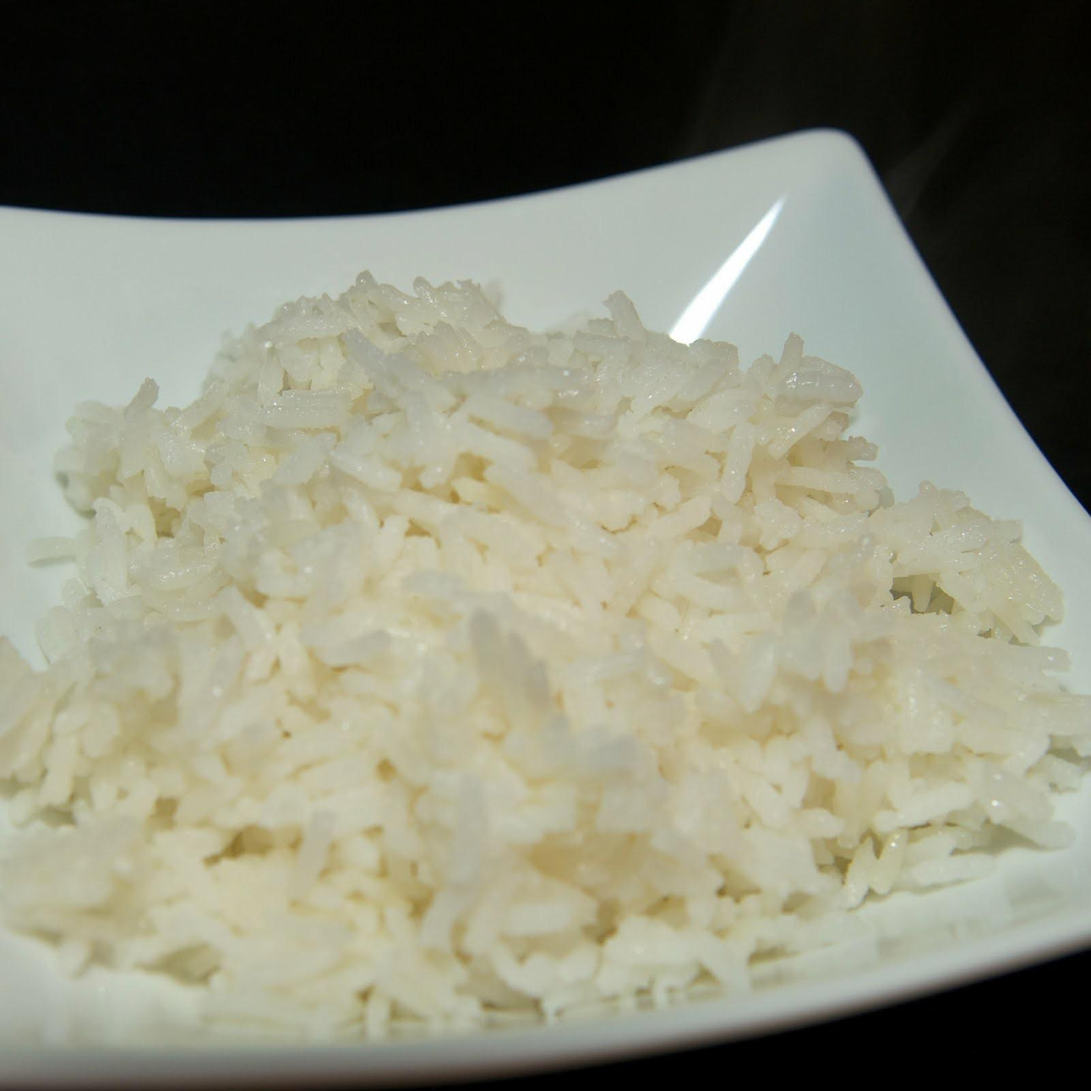WhiteRice: (0, 260, 1091, 1032)
